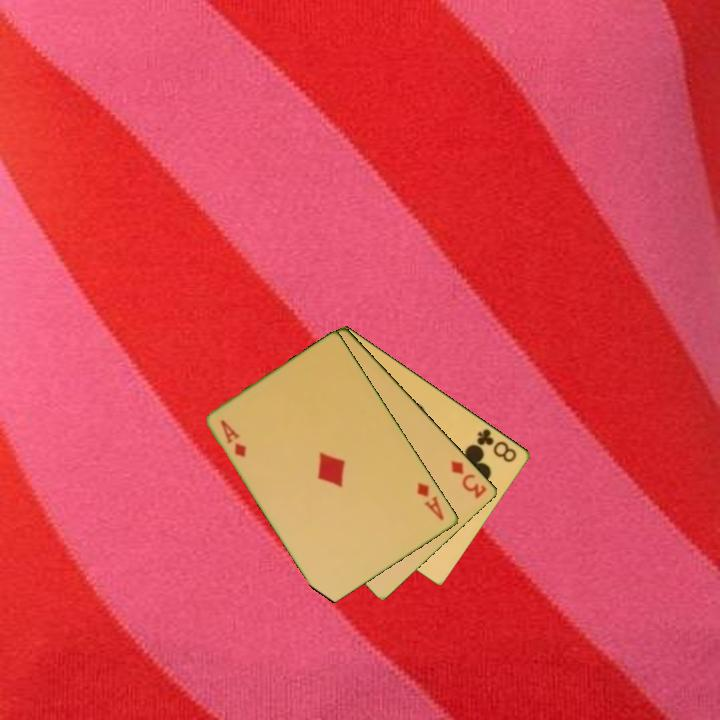3d: (447, 457, 490, 502)
8c: (473, 425, 520, 465)
Ad: (414, 478, 447, 523), (217, 416, 250, 460)
